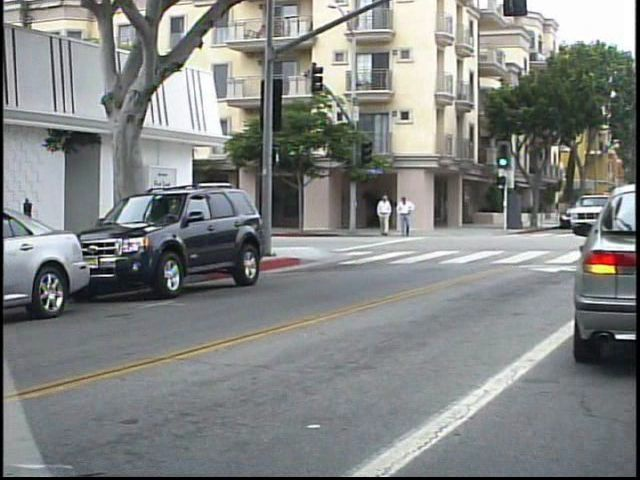person: (373, 190, 393, 242), (393, 193, 414, 241)
